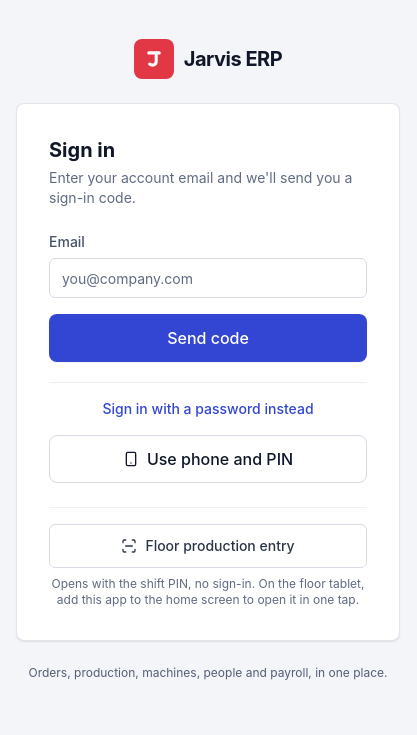
Test case: when the server says it cannot send email › shows an unknown address as an unknown address
Step 1. Type "navni@balu.com" into the field labelled "Email" → (208, 278), box [49, 258, 367, 298]
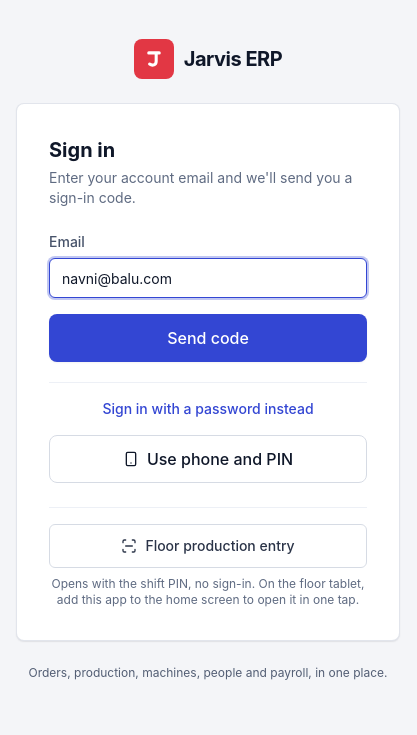
Step 2. Click the button "Send code" → (208, 338), box [49, 314, 367, 362]
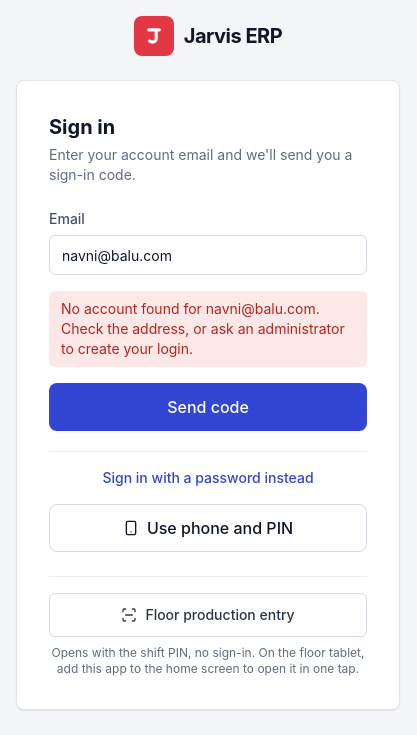
Expected: the text "No account found for navni@balu.com" is shown, [61, 300, 345, 357]
